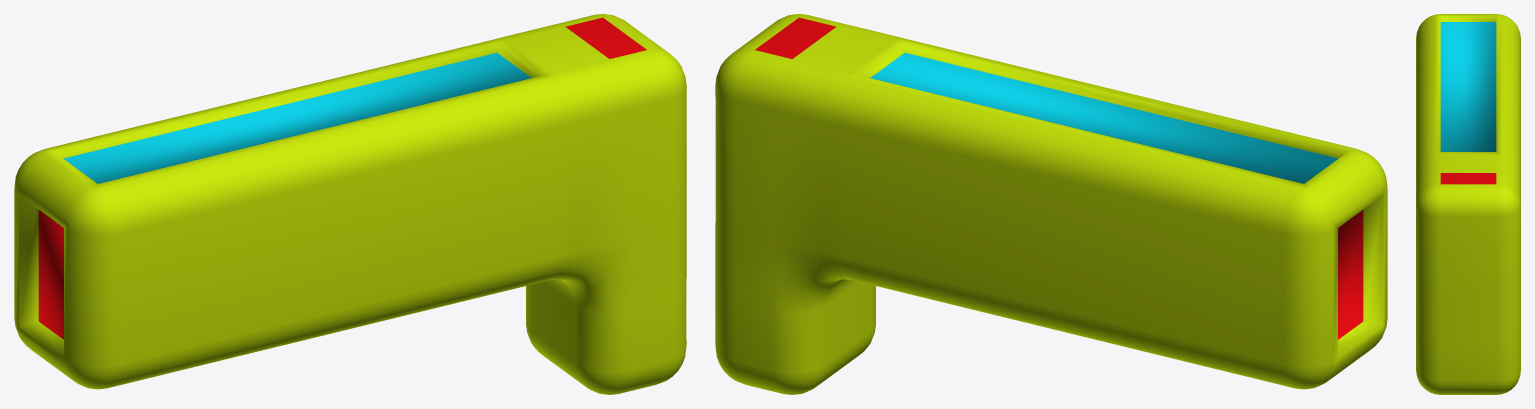
Rendered from bubble-gun-legacy.glb.
3 renders of one model, left to right at view 1: azimuth 30°, elevation 25°; view 2: azimuth 150°, elevation 25°; view 3: azimuth 270°, elevation 25°, orthographic. The views are drawn at different scales.
Parts seen in each view (by area): view 1: Blaster; view 2: Blaster; view 3: Blaster.
Boxes of the visible parts, x1,y1,x2,y2 form: Blaster: (14,14,686,394); Blaster: (715,14,1387,394); Blaster: (1416,14,1520,394).
Bounding box in the file's own units: 2 × 1.03 × 0.4694.
